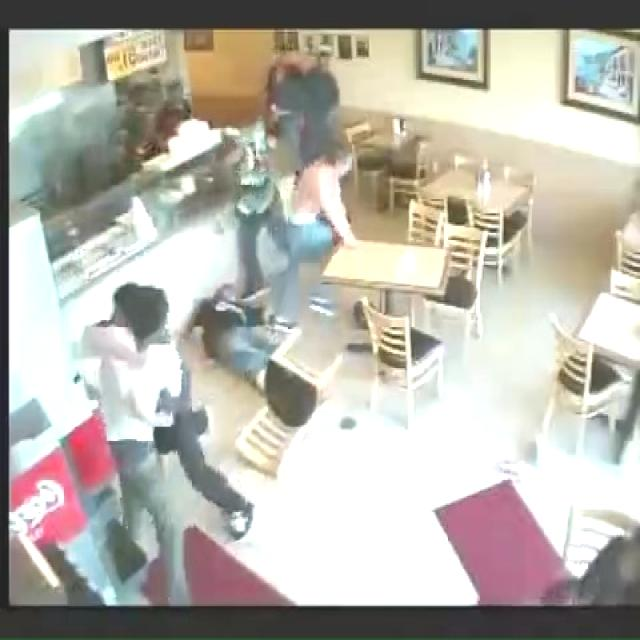fight: (92, 278, 192, 628)
